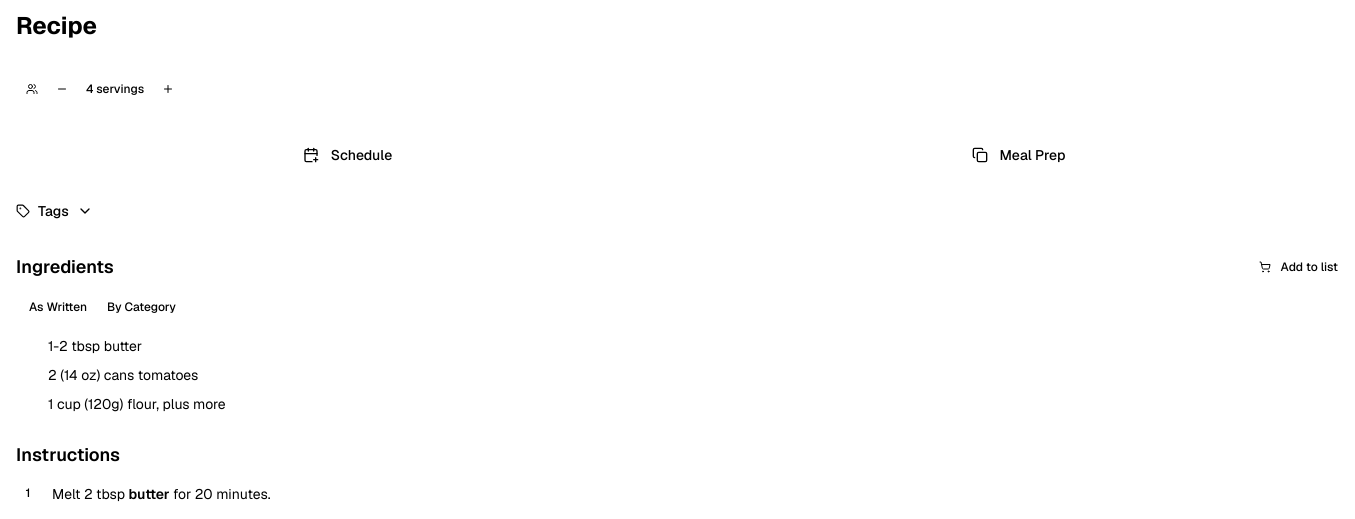
Test: shared recipe projection consumers › uses serving counts only for an exact yield
The width and height of the screenshot is (1355, 519).
Click the button named "Increase servings" at point(168, 89), box [148,69,188,109]
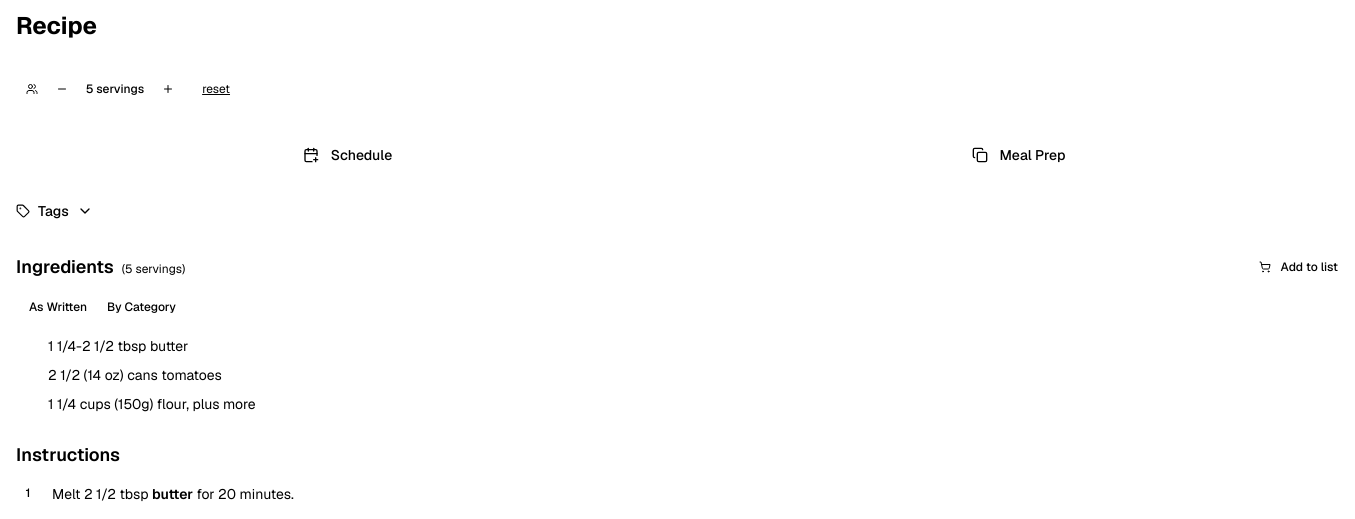
Result: the text "5 servings" is shown at [86,81,144,97]
Click the button with aria-label "Reset amounts" at point(216, 89), box [194,69,238,109]
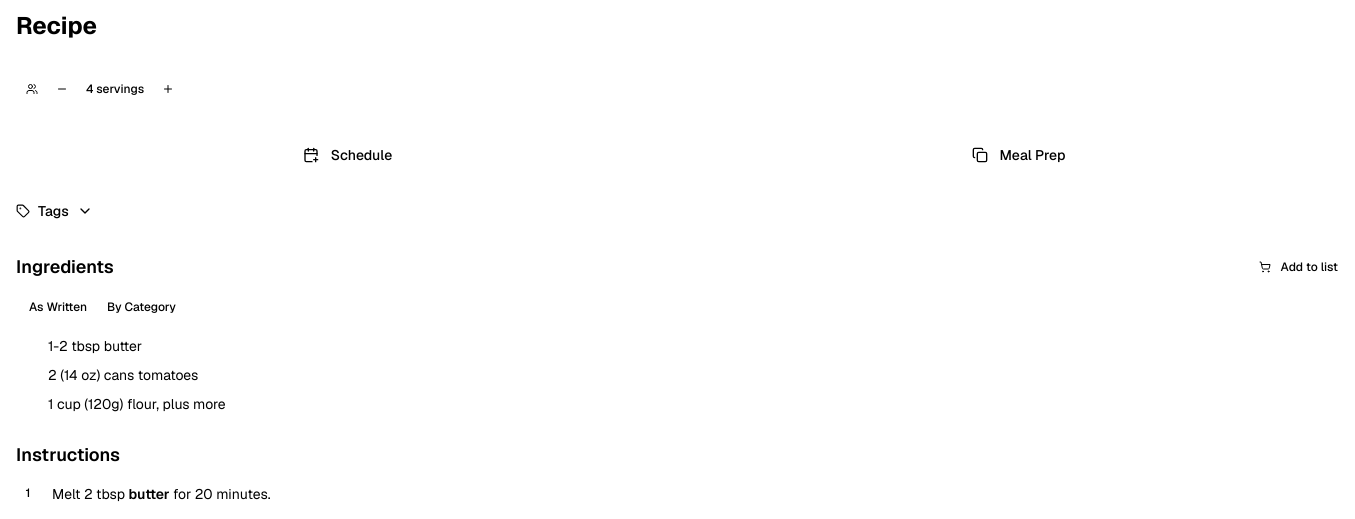
Result: the text "4 servings" is shown at [86,81,144,97]
